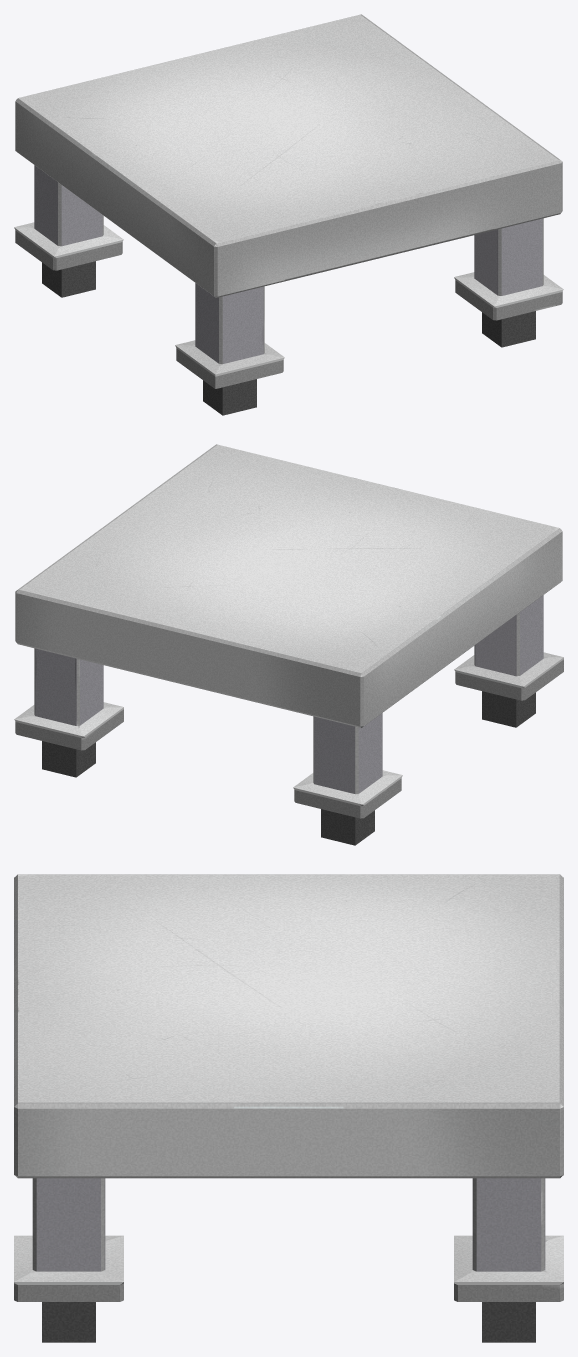
File: workbench.glb
The picture shows the model from 3 angles, top to bottom: view 1: azimuth 30°, elevation 25°; view 2: azimuth 150°, elevation 25°; view 3: azimuth 270°, elevation 25°; orthographic projection. The views are drawn at different scales.
Visible parts, largest first — view 1: Cube; view 2: Cube; view 3: Cube.
Boxes of the visible parts, x1,y1,x2,y2 form: Cube: [14, 14, 563, 415]; Cube: [14, 444, 563, 845]; Cube: [14, 874, 563, 1342].
Size of the model in its own units: 2 by 1 by 2.
Materials: 1 (1 with a texture image).
